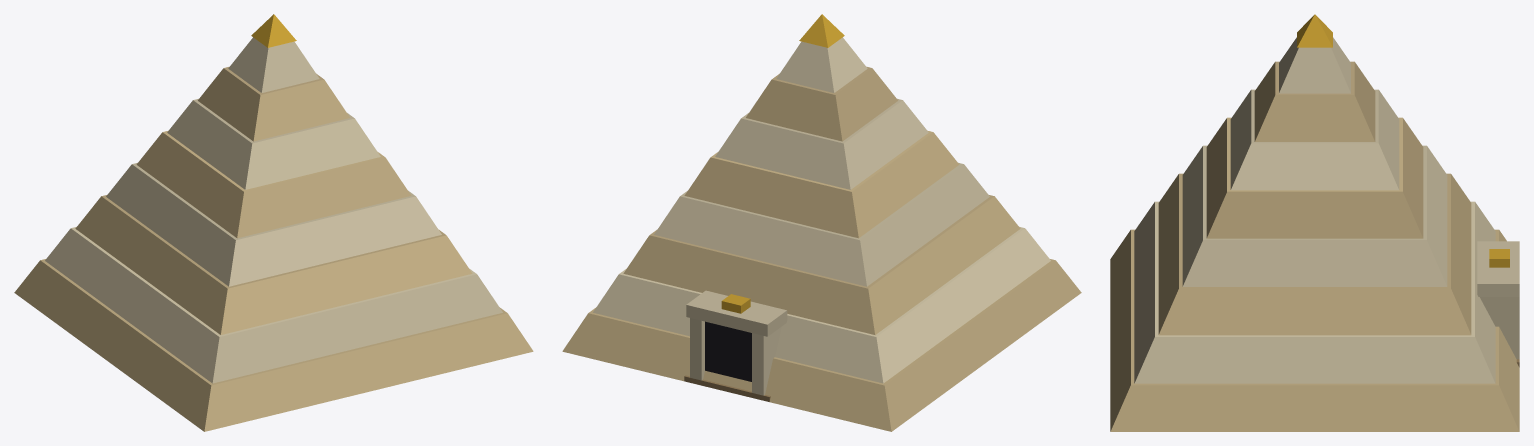
The model's file is Decor_PharaohPyramid_Pyramid.fbx.
3 views of the same model, side by side, from view 1: azimuth 30°, elevation 25°; view 2: azimuth 150°, elevation 25°; view 3: azimuth 270°, elevation 25° (orthographic). The views are drawn at different scales.
Visible parts, largest first — view 1: Pyramid_Body; view 2: Pyramid_Body; view 3: Pyramid_Body.
Boxes of the visible parts, x1,y1,x2,y2 form: Pyramid_Body: [14, 14, 533, 431]; Pyramid_Body: [562, 14, 1081, 431]; Pyramid_Body: [1110, 14, 1519, 431].
Size of the model in its own units: 34 by 30.4 by 34.
